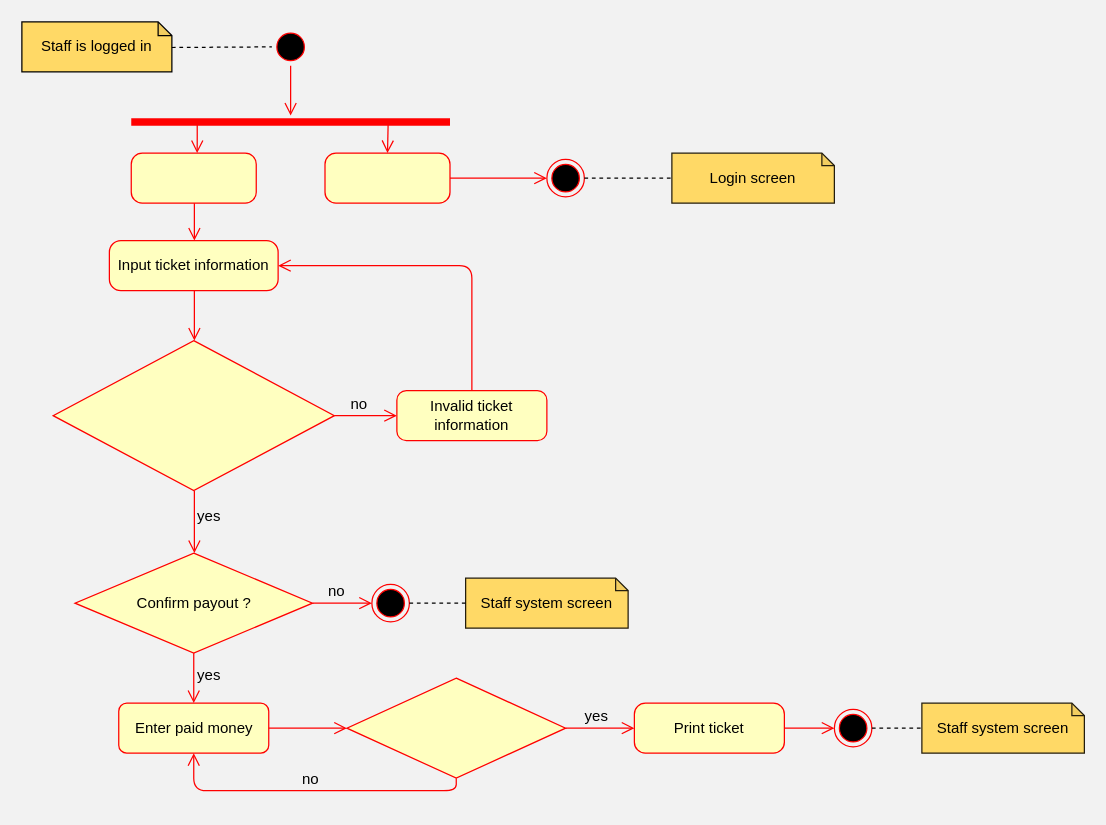
This 1106x825 diagram has some shape labels left out. The box of each missing label's shape, as (x1, y1, x2, y2) in pixels:
Ckeck are ticket information right format and correct ?: (52, 339, 334, 491)
Log out: (324, 152, 450, 203)
Sell ticket: (130, 152, 256, 203)
The money paid: (346, 677, 566, 778)
